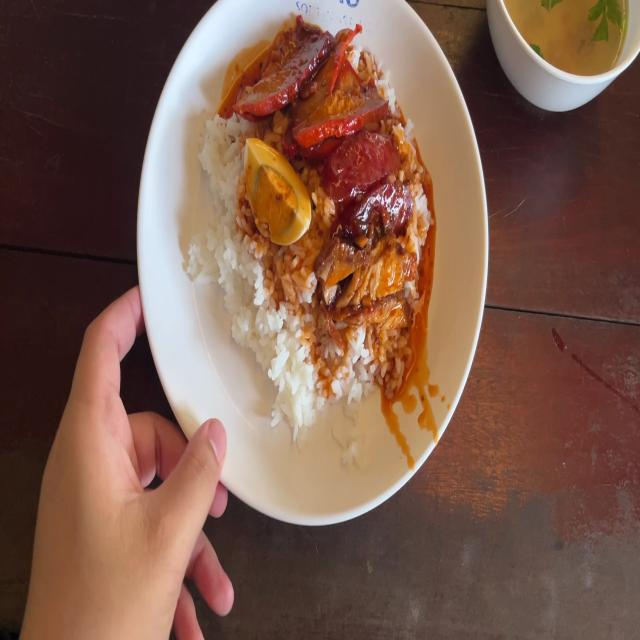01boiled_egg: (248, 139, 304, 233)
01chainese_sausage: (340, 124, 403, 238)
01crispy_pork: (322, 243, 418, 316)
01red_pork: (244, 34, 362, 144)
01red_pork_and_crispy_pork: (203, 48, 429, 386)
01rice: (190, 114, 251, 338), (247, 260, 314, 369), (328, 323, 399, 399)
